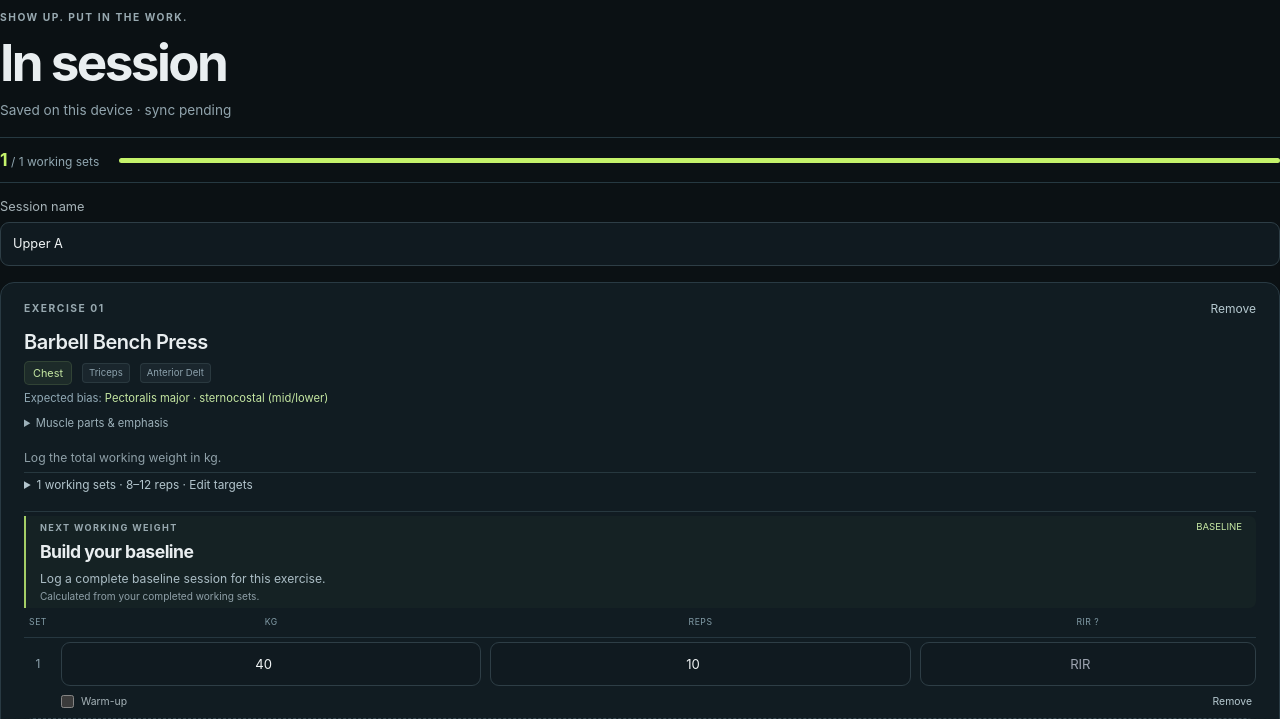
it: workout editor persistence › continues saving after an earlier device write fails
Replace the text in the field labelled "Session name" with "First edit": (640, 244) [0,222,1279,266]
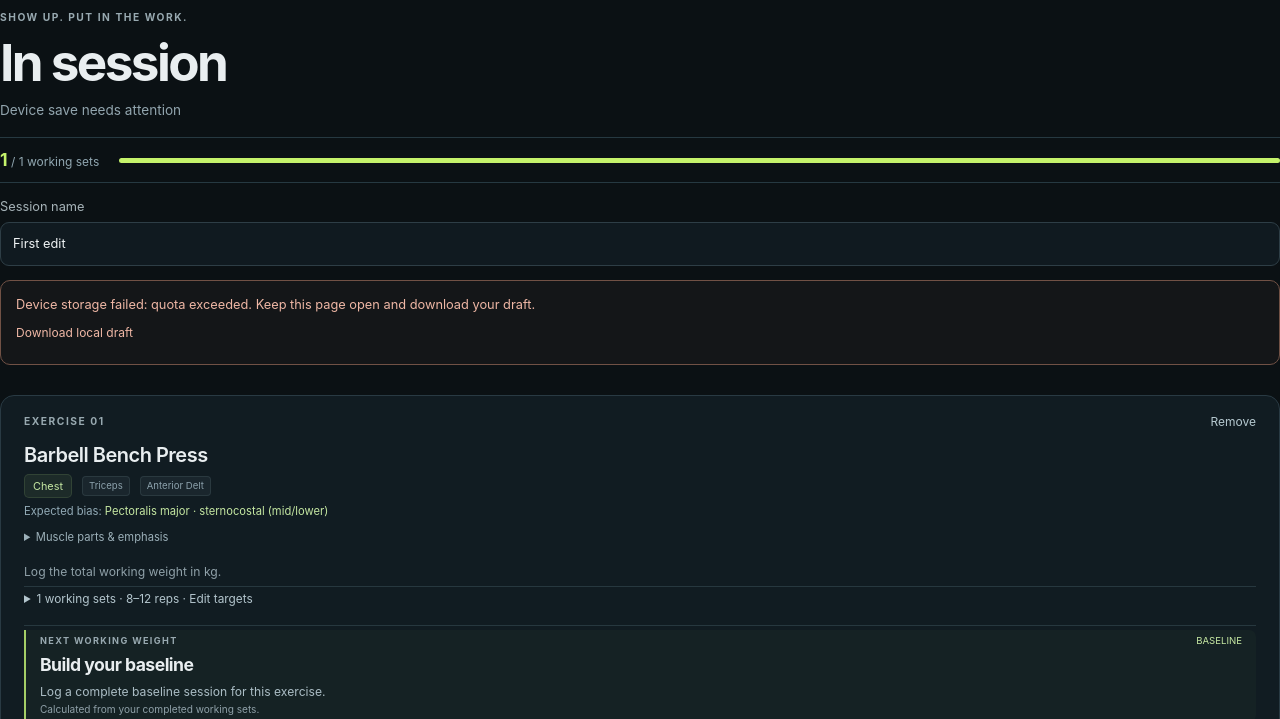
Expected: the text "Device storage failed" is shown, [16,297,535,312]
Replace the text in the field labelled "Session name" with "Second edit": (640, 244) [0,222,1279,266]
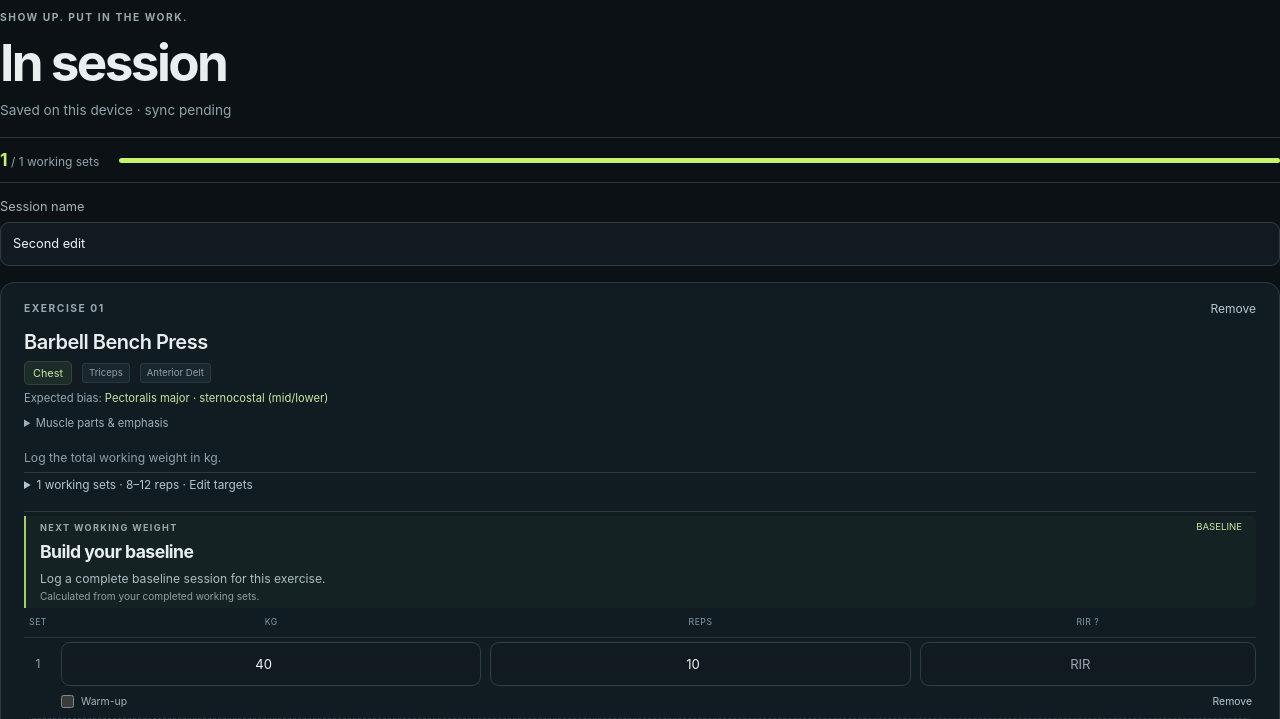
Expected: the text "Device storage failed" is gone
